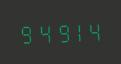four: (35, 20, 51, 44), (86, 19, 102, 42)
nine: (18, 21, 34, 44), (52, 20, 68, 43)
one: (69, 19, 85, 43)
